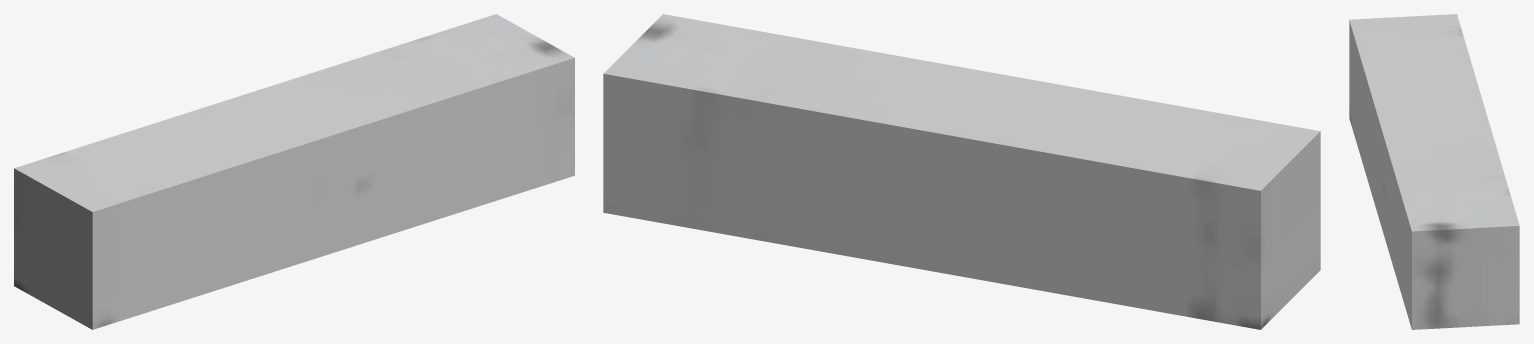
The model's file is frame__wheel_fork_strut_0.glb.
The picture shows the model from 3 angles, left to right: view 1: azimuth 30°, elevation 25°; view 2: azimuth 150°, elevation 25°; view 3: azimuth 270°, elevation 25°; orthographic projection. The views are drawn at different scales.
Parts seen in each view (by area): view 1: world; view 2: world; view 3: world.
Boxes of the visible parts, x1,y1,x2,y2 form: world: [14, 14, 574, 329]; world: [603, 14, 1320, 329]; world: [1349, 14, 1519, 329].
Bounding box in the file's own units: 0.1232 × 0.026 × 0.0408.
1 material, 1 textured.
